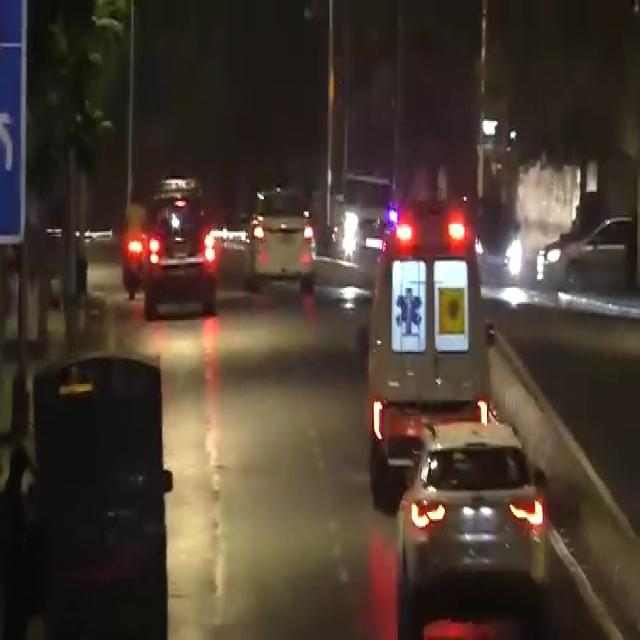ambulance: (337, 172, 479, 438)
